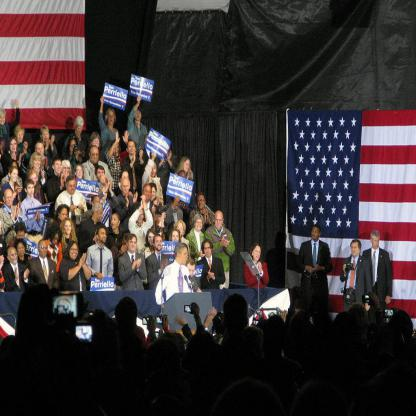face: (181, 248, 189, 265), (71, 245, 79, 260), (188, 264, 196, 278), (100, 229, 108, 243), (40, 243, 48, 257), (61, 208, 69, 222), (352, 244, 360, 257), (254, 248, 262, 261), (204, 244, 212, 257), (91, 150, 99, 163), (98, 169, 106, 182), (130, 239, 138, 252), (76, 166, 84, 179), (216, 214, 223, 228), (55, 160, 62, 174), (6, 192, 13, 206), (312, 228, 320, 240), (144, 188, 152, 200), (69, 182, 77, 194), (10, 251, 18, 263), (11, 170, 19, 182), (373, 236, 380, 249), (198, 196, 205, 209), (177, 224, 184, 237), (113, 144, 120, 157), (112, 217, 119, 230), (156, 238, 163, 251), (149, 234, 156, 247), (65, 222, 72, 235), (18, 130, 25, 143), (34, 158, 42, 169), (37, 145, 45, 156), (196, 218, 203, 230), (173, 201, 180, 213), (98, 208, 104, 222), (53, 234, 60, 246), (18, 244, 25, 256), (70, 140, 77, 152), (28, 184, 35, 196), (11, 140, 18, 152), (43, 131, 50, 143), (151, 165, 157, 178), (77, 123, 83, 136), (173, 232, 180, 243), (93, 138, 100, 149), (123, 174, 130, 185), (123, 184, 130, 195), (94, 198, 101, 209), (18, 230, 25, 241), (31, 176, 38, 187), (183, 198, 189, 210), (138, 212, 144, 224), (151, 188, 157, 200), (129, 144, 136, 154), (109, 113, 115, 124), (64, 165, 70, 176), (158, 220, 163, 232), (185, 161, 190, 173), (102, 190, 108, 200), (10, 237, 16, 247), (1, 114, 6, 125), (136, 110, 142, 119)
